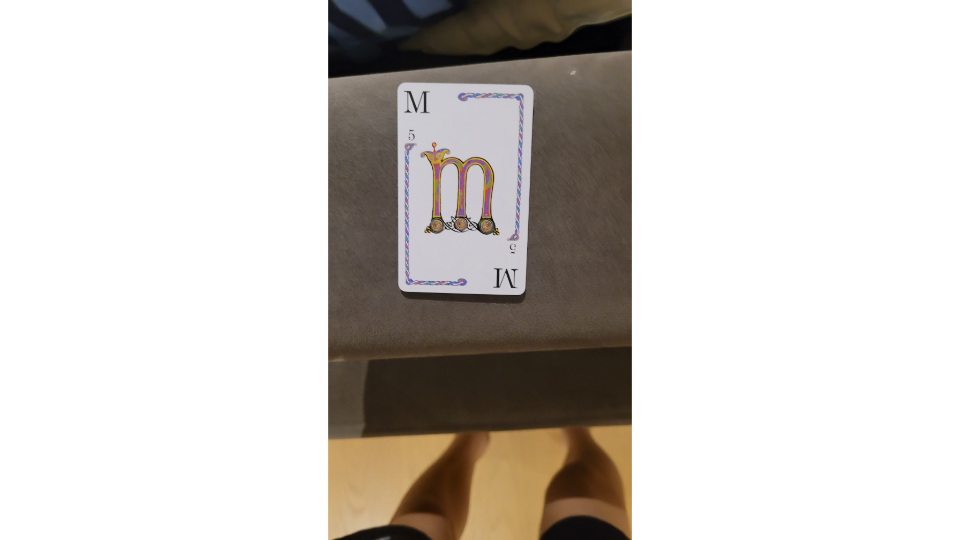M: (394, 77, 536, 300)
